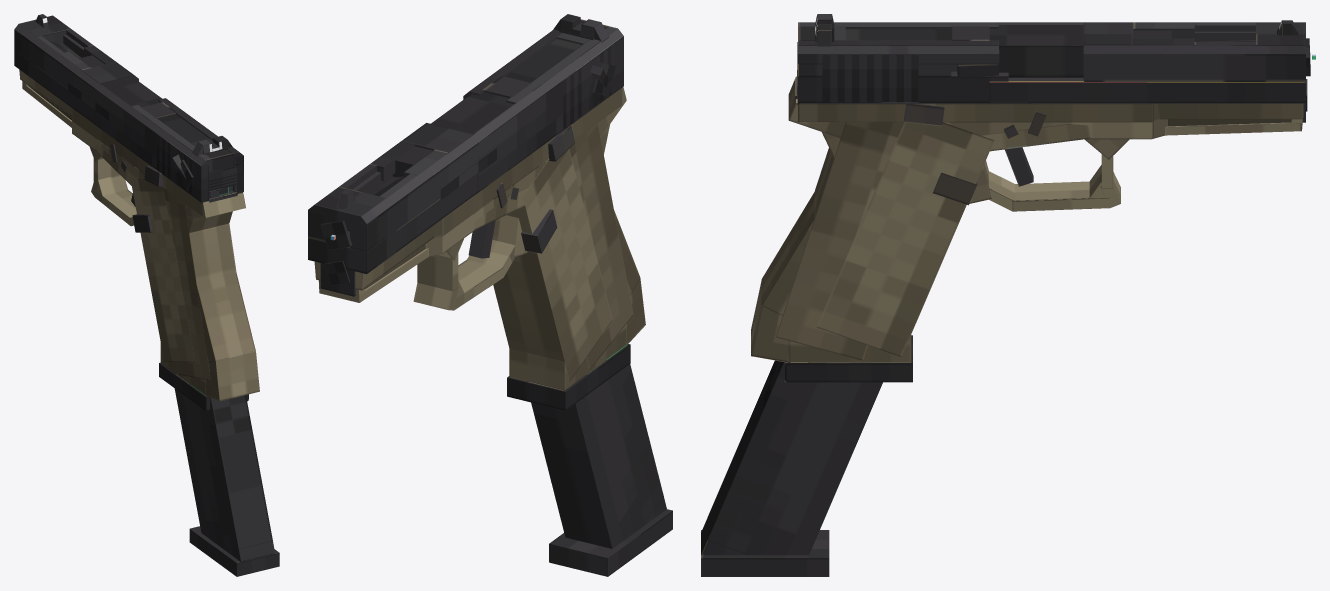
Rendered from glock18.obj.
3 views of the same model, side by side, from view 1: azimuth 30°, elevation 25°; view 2: azimuth 150°, elevation 25°; view 3: azimuth 270°, elevation 25° (orthographic). The views are drawn at different scales.
Visible parts, largest first — view 1: gun_38, slide, magazine2_3, magazine_3; view 2: gun_38, slide, magazine2_3, magazine_3; view 3: gun_38, slide, magazine2_3, magazine_3.
Boxes of the visible parts, <box> form: gun_38: <box>19,41,259,401</box>; slide: <box>14,14,243,202</box>; magazine2_3: <box>139,170,279,576</box>; magazine_3: <box>159,362,248,411</box>; gun_38: <box>314,86,645,390</box>; slide: <box>308,14,623,296</box>; magazine2_3: <box>512,166,672,576</box>; magazine_3: <box>507,344,630,410</box>; gun_38: <box>751,25,1310,362</box>; slide: <box>797,14,1305,122</box>; magazine2_3: <box>701,360,882,576</box>; magazine_3: <box>784,335,912,382</box>.
Bounding box in the file's own units: 0.2726 × 1.95 × 2.
